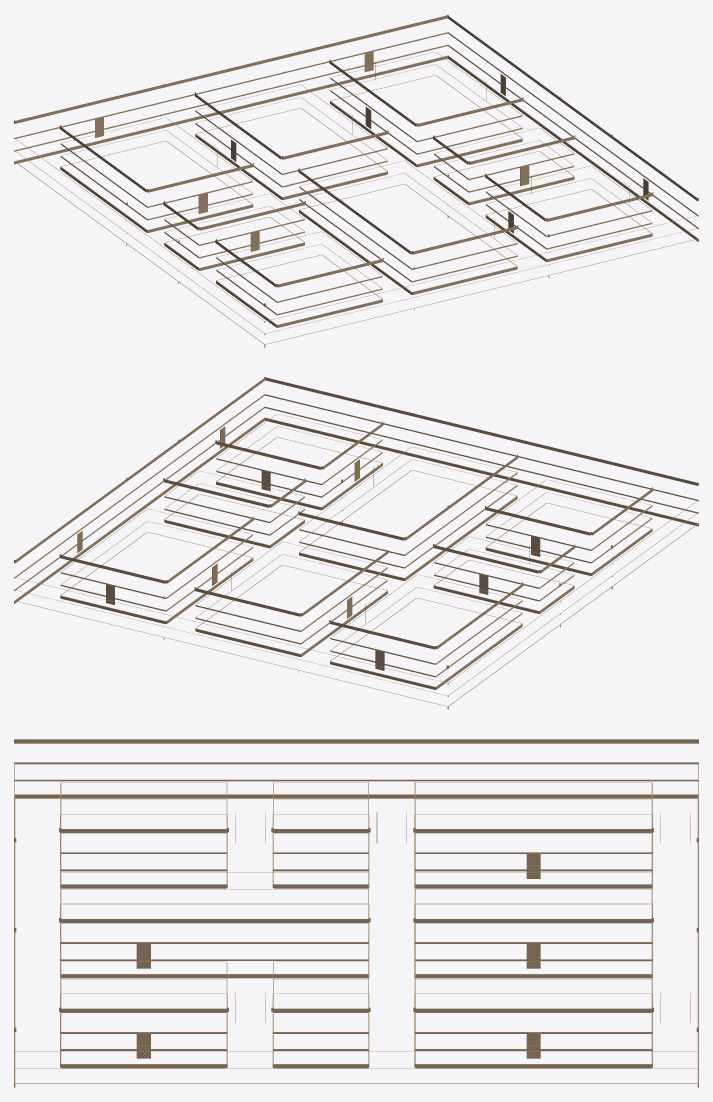
File: trim.glb
The picture shows the model from 3 angles, top to bottom: view 1: azimuth 30°, elevation 25°; view 2: azimuth 150°, elevation 25°; view 3: azimuth 270°, elevation 25°; orthographic projection. The views are drawn at different scales.
Parts seen in each view (by area): view 1: trim; view 2: trim; view 3: trim.
Part boxes in pixels (left/top/right/bottom): trim: left=14, top=15, right=698, bottom=347; trim: left=14, top=377, right=698, bottom=709; trim: left=14, top=739, right=698, bottom=1087.
Bounding box in the file's own units: 58 × 5.6 × 58.
